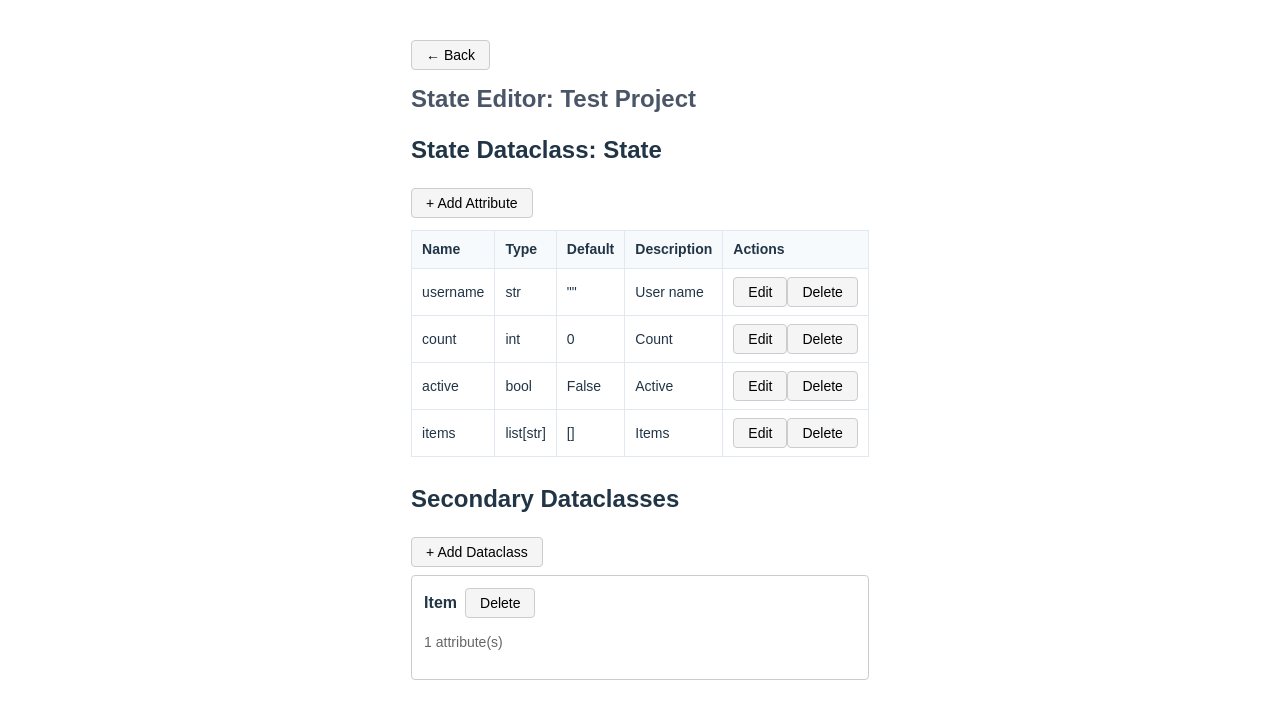
Test: StateEditor edit attribute shows input fields
Click the button "Edit" in the row of "username" at (760, 292), box [733,277,787,307]
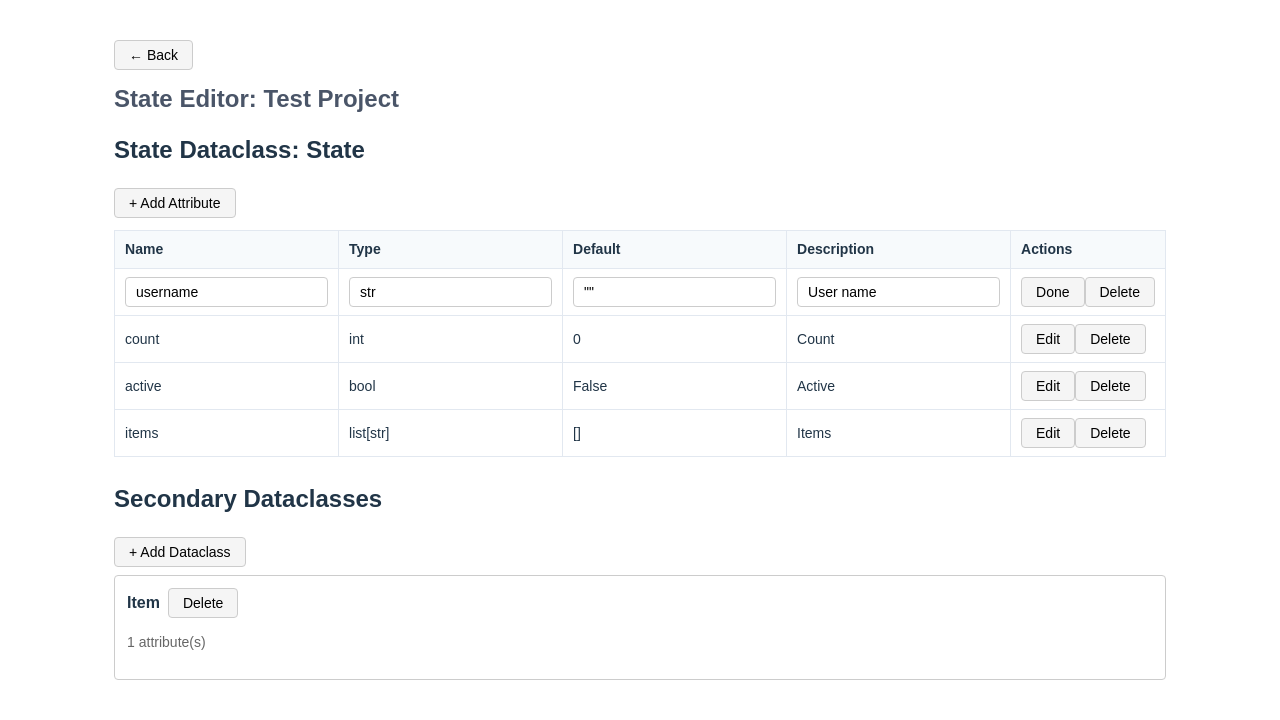
Now the button "Done" is shown, box [1021,277,1084,307]
